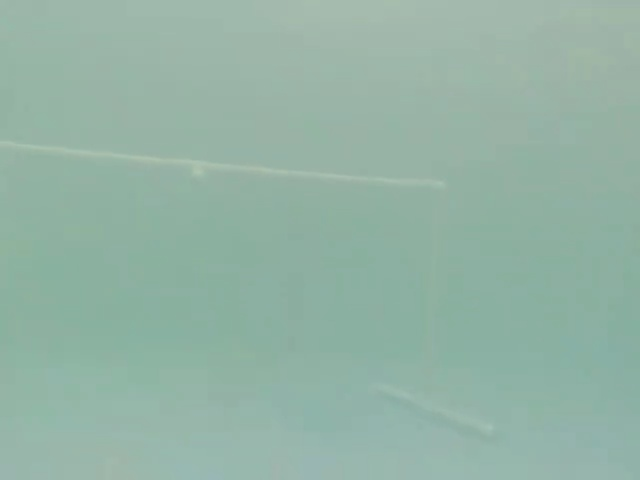gate: (0, 127, 507, 447)
